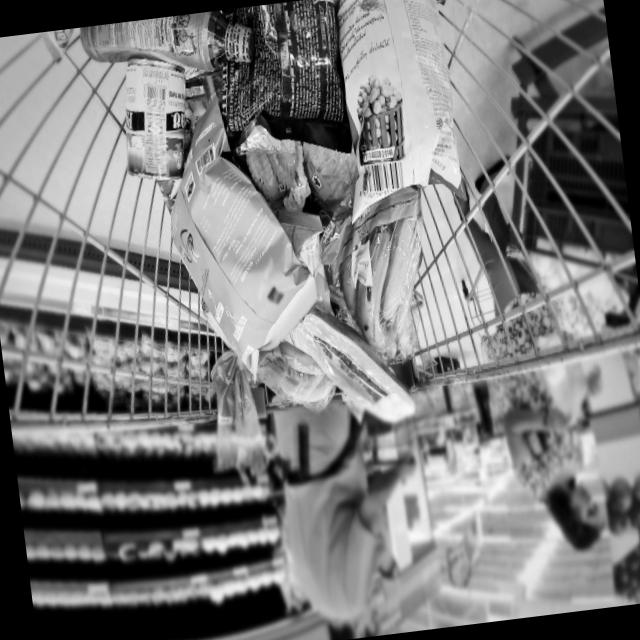bread: (186, 282, 262, 453)
chuoi: (314, 205, 436, 364), (256, 336, 341, 412)
